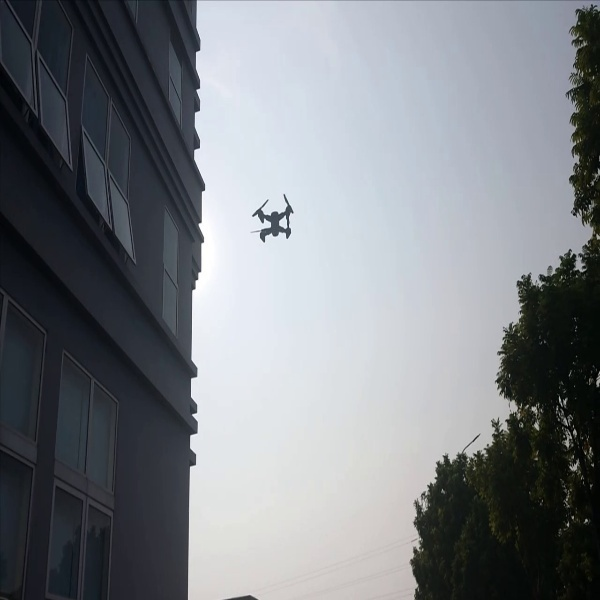drone: (247, 193, 300, 245)
